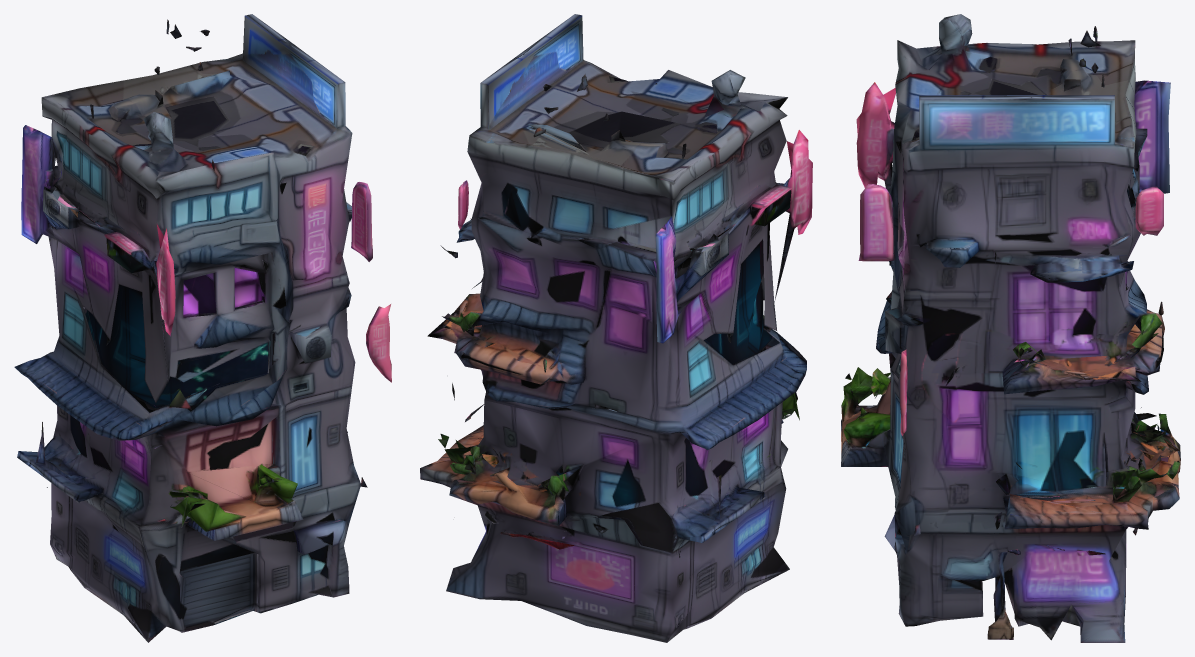
The model's file is building.glb.
3 views of the same model, side by side, from view 1: azimuth 30°, elevation 25°; view 2: azimuth 150°, elevation 25°; view 3: azimuth 270°, elevation 25° (orthographic). The views are drawn at different scales.
Size of the model in its own units: 0.9737 by 1.77 by 0.9842.
1 material, 1 textured.
